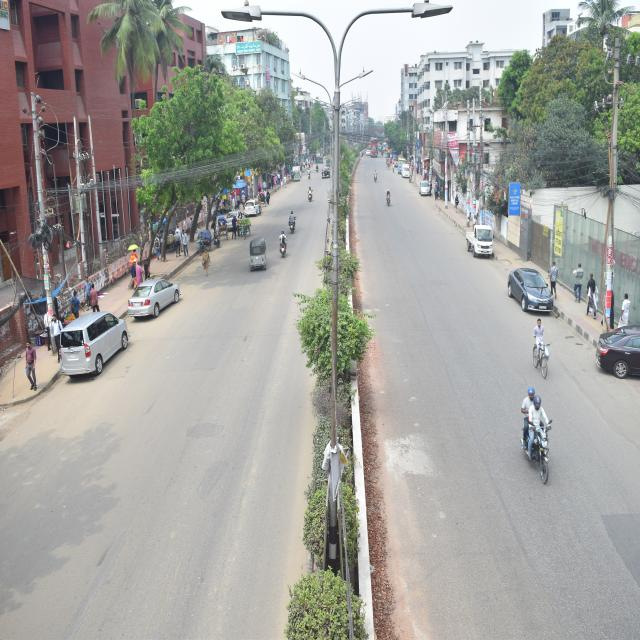bus: (366, 127, 384, 170)
car: (45, 300, 141, 382), (496, 253, 562, 332), (576, 306, 640, 386), (112, 266, 193, 328), (414, 163, 442, 206), (217, 204, 248, 234), (238, 192, 268, 222), (400, 159, 416, 187), (320, 159, 333, 189), (291, 163, 305, 189)
motorbike: (504, 350, 560, 498), (284, 193, 300, 252), (273, 222, 290, 272), (384, 186, 396, 217), (371, 165, 380, 193), (313, 160, 322, 183), (308, 177, 313, 216)
pickup-van: (450, 198, 494, 262)
